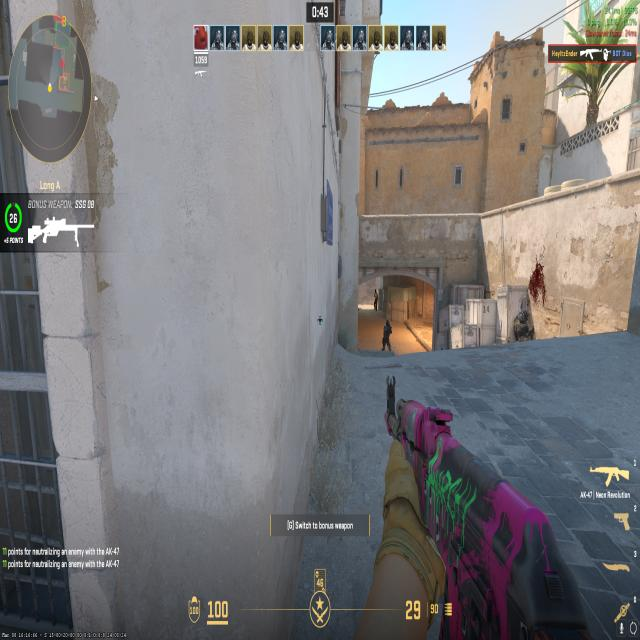ct: (378, 316, 395, 354)
t: (372, 286, 378, 313)
